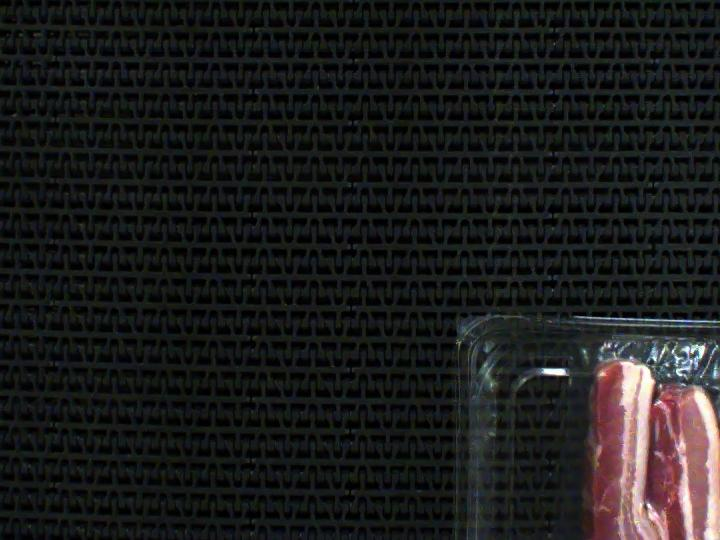unsealed: (571, 341, 720, 540)
